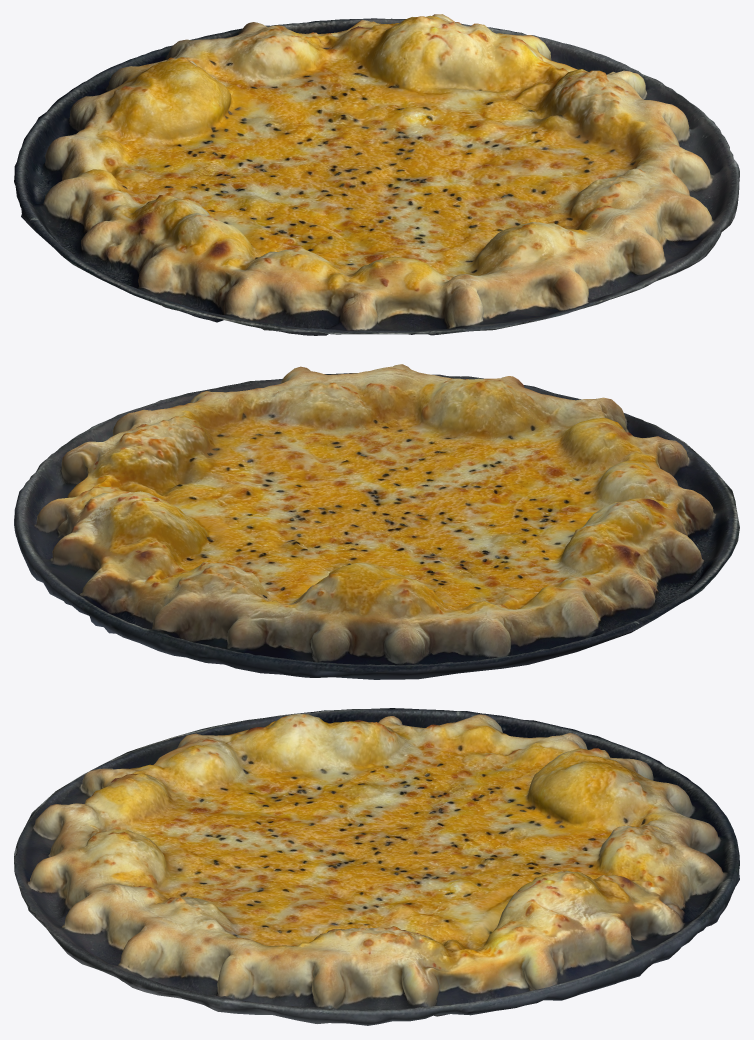
Rendered from manageeshMixCheese.glb.
3 renders of one model, top to bottom at view 1: azimuth 30°, elevation 25°; view 2: azimuth 150°, elevation 25°; view 3: azimuth 270°, elevation 25°, orthographic.
Parts seen in each view (by area): view 1: ObjectCapture; view 2: ObjectCapture; view 3: ObjectCapture.
Boxes of the visible parts, x1=… form: ObjectCapture: x1=14, y1=14, x2=739, y2=335; ObjectCapture: x1=14, y1=364, x2=739, y2=679; ObjectCapture: x1=14, y1=708, x2=739, y2=1025.
Size of the model in its own units: 0.3072 by 0.0365 by 0.3074.
1 material, 1 textured.
